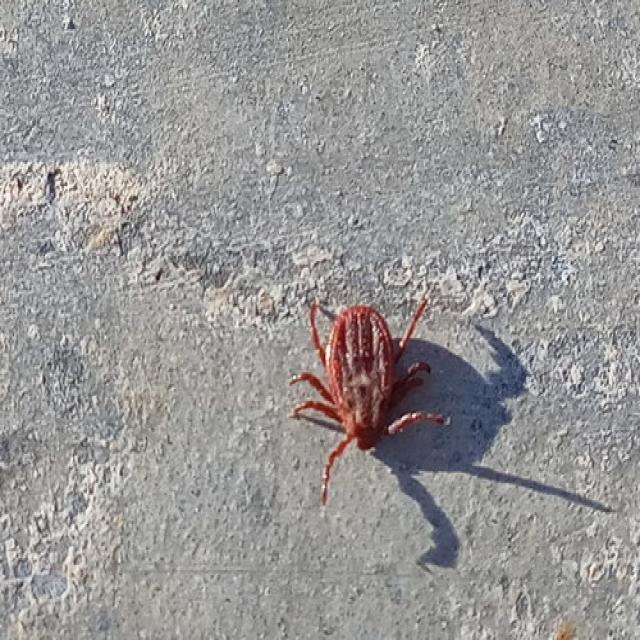Dermacentor Reticulatus-F: (288, 297, 451, 507)
